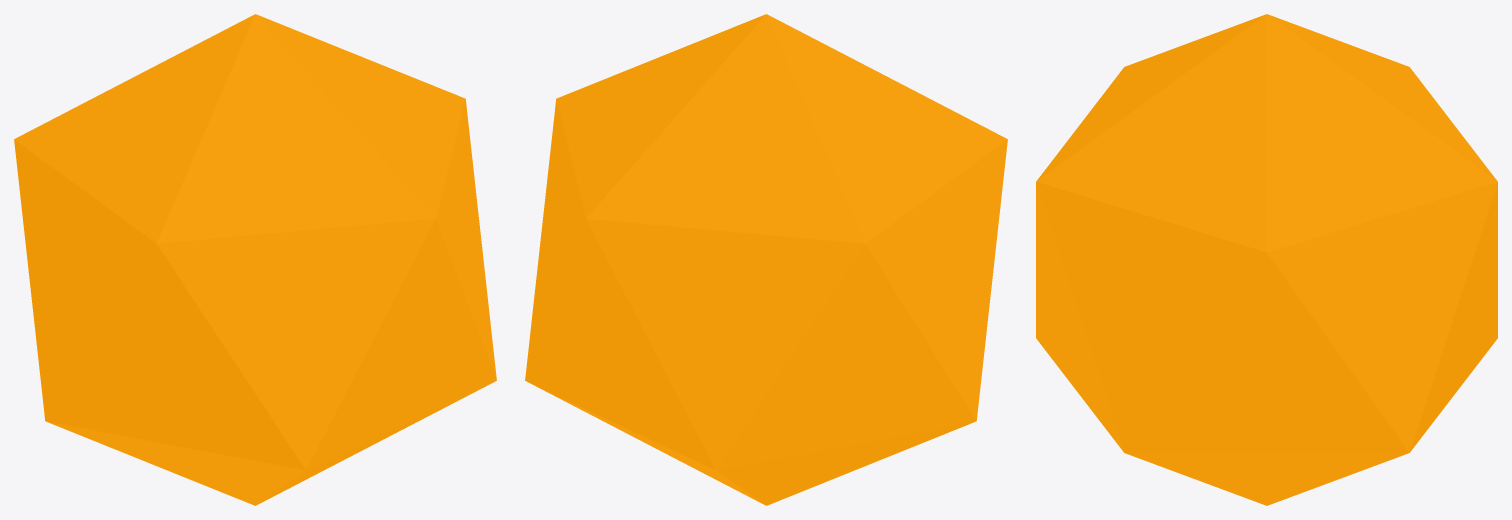
The model's file is ember_mote.glb.
3 renders of one model, left to right at view 1: azimuth 30°, elevation 25°; view 2: azimuth 150°, elevation 25°; view 3: azimuth 270°, elevation 25°, orthographic.
Visible parts, largest first — view 1: EmberHalo; view 2: EmberHalo; view 3: EmberHalo.
Part boxes in pixels (left/top/right/bottom): EmberHalo: left=14, top=14, right=496, bottom=505; EmberHalo: left=525, top=14, right=1007, bottom=505; EmberHalo: left=1036, top=14, right=1497, bottom=505.
Size of the model in its own units: 0.322 by 0.36 by 0.3062.
